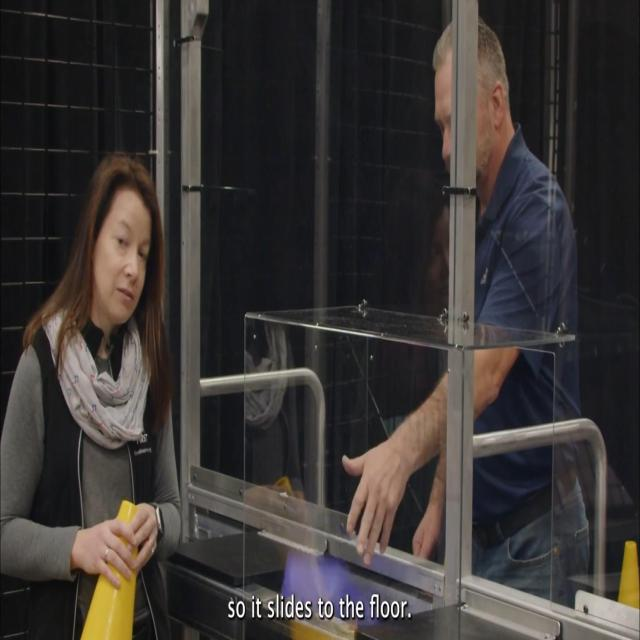frc_cone: (82, 497, 138, 640), (618, 535, 640, 611)
frc_cube: (279, 553, 396, 616)
